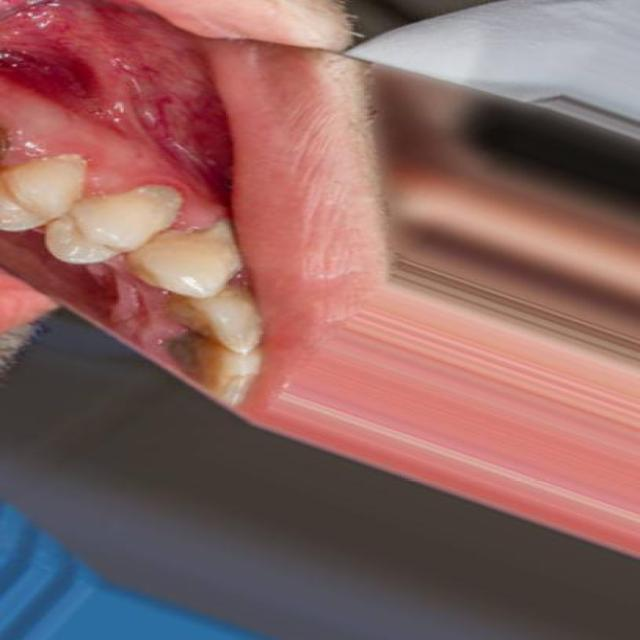caries: (162, 326, 234, 381)
